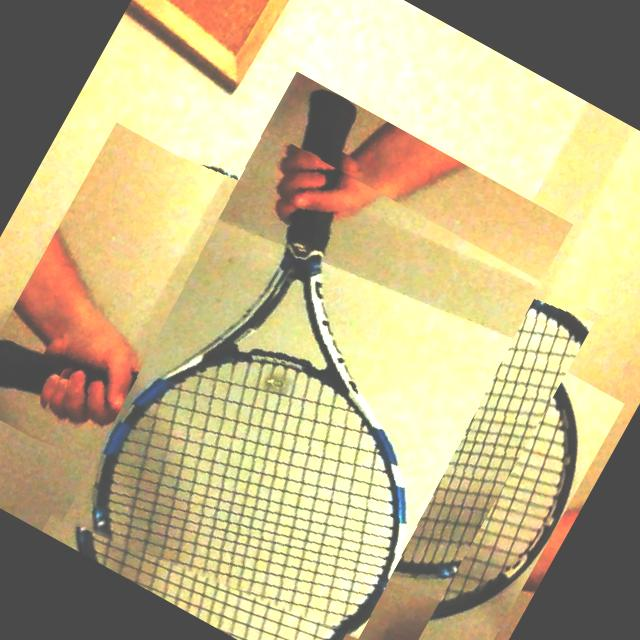TennisRacket: (0, 97, 598, 640)
